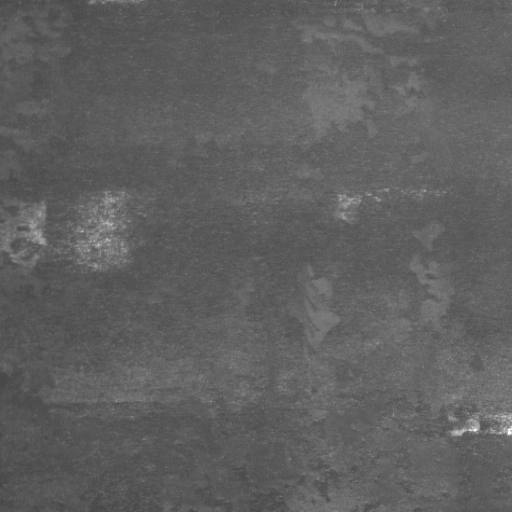hengxiangliewen: (394, 405, 512, 439)
